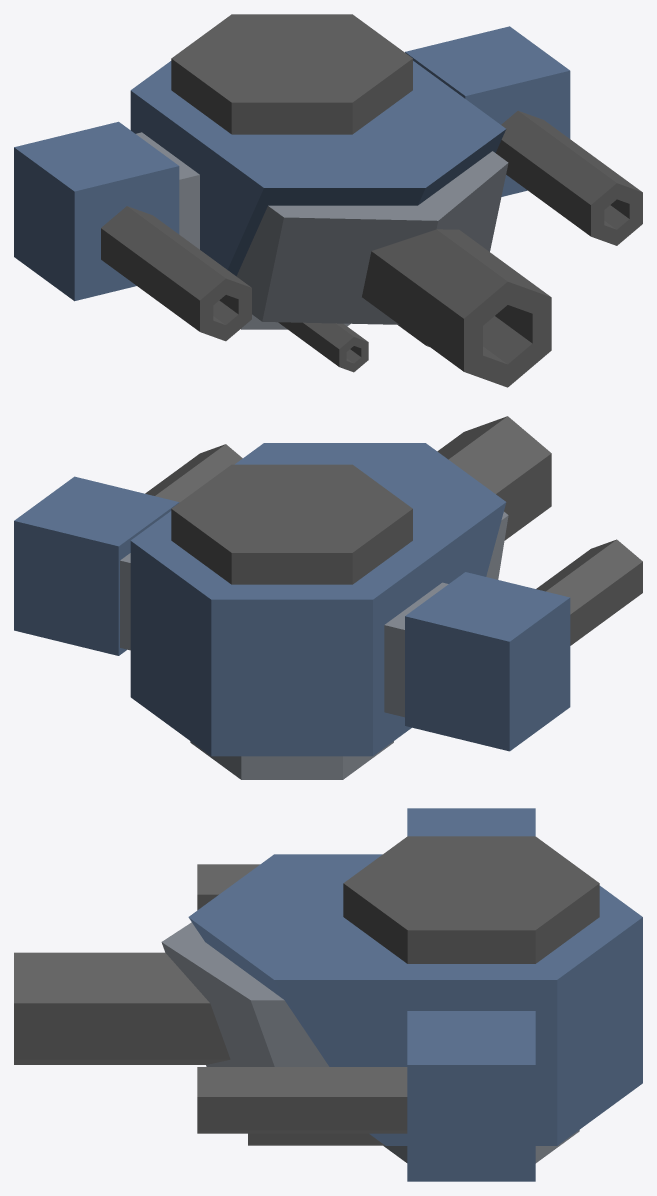
Rendered from turret_v3.fbx.
3 views of the same model, one above another, from view 1: azimuth 30°, elevation 25°; view 2: azimuth 150°, elevation 25°; view 3: azimuth 270°, elevation 25° (orthographic). The views are drawn at different scales.
Visible parts, largest first — view 1: Turret_lvl5, Turret_lvl2, Turret_lvl4, Turret_lvl1, Turret_lvl3; view 2: Turret_lvl3, Turret_lvl1, Turret_lvl2, Turret_lvl4, Turret_lvl5; view 3: Turret_lvl2, Turret_lvl1, Turret_lvl3, Turret_lvl5, Turret_lvl4.
Boxes of the visible parts, x1,y1,x2,y2 form: Turret_lvl5: (14,28,642,372); Turret_lvl2: (130,42,551,387); Turret_lvl4: (31,26,642,369); Turret_lvl1: (130,14,551,383); Turret_lvl3: (14,31,569,371); Turret_lvl3: (14,441,570,779); Turret_lvl1: (130,470,550,756); Turret_lvl2: (120,416,551,755); Turret_lvl4: (14,444,642,779); Turret_lvl5: (35,445,642,778); Turret_lvl2: (14,836,642,1145); Turret_lvl1: (14,836,642,1145); Turret_lvl3: (14,808,642,1181); Turret_lvl5: (14,809,642,1174); Turret_lvl4: (189,808,642,1133).
Size of the model in its own units: 1649 by 743 by 1708.
